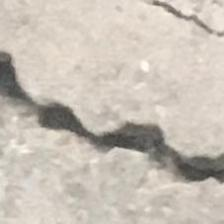Crack: (0, 44, 224, 192)
